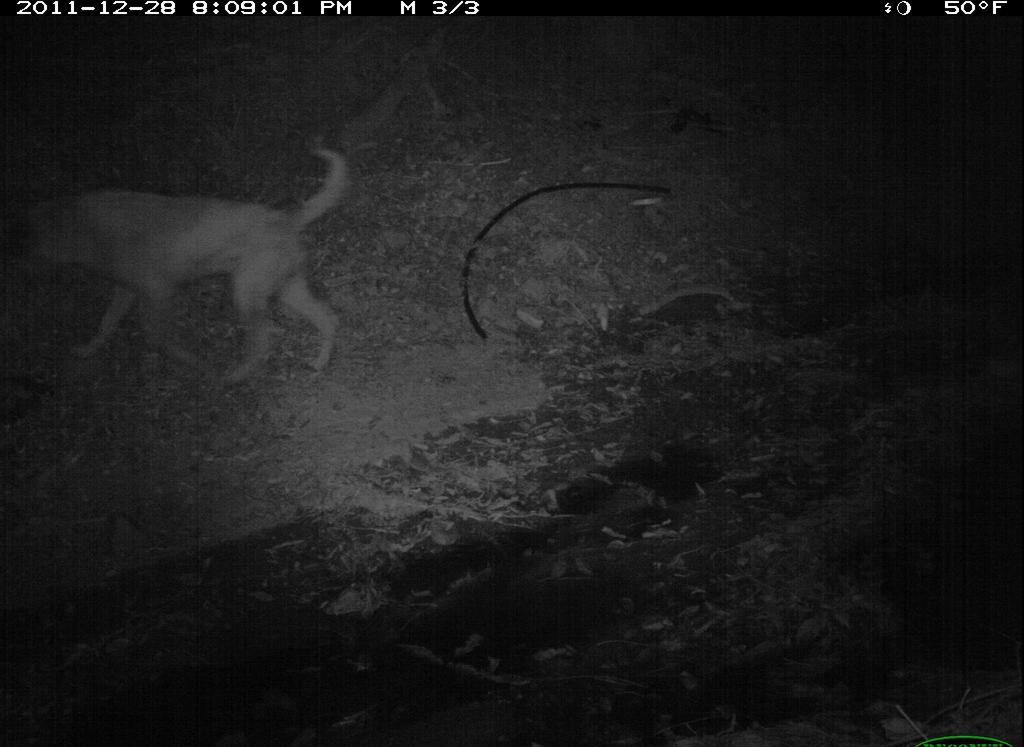dog: (16, 136, 359, 395)
